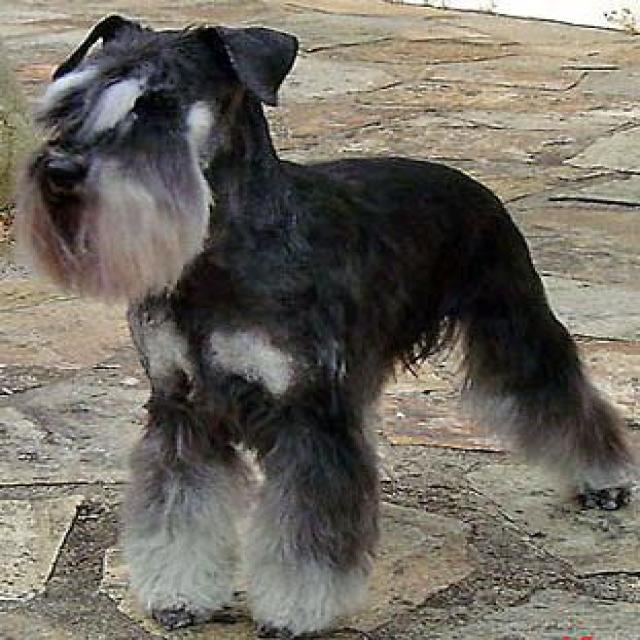standard_schnauzer: (18, 11, 638, 630)
